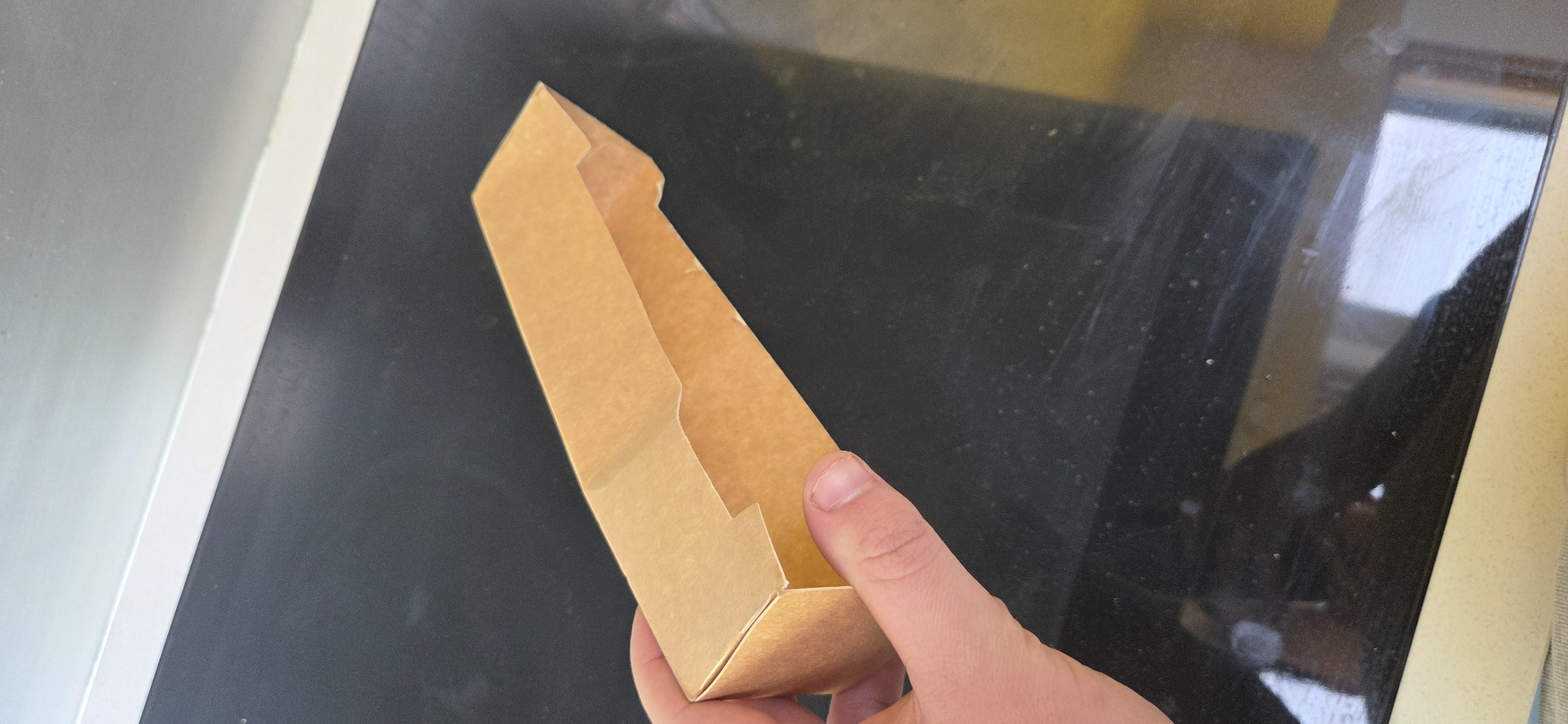Cardboard: (59, 221, 1403, 414)
